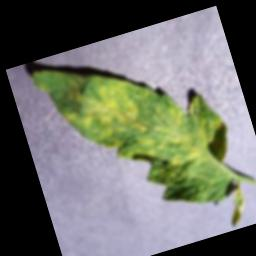Leaf_Mold: (32, 22, 246, 241)
